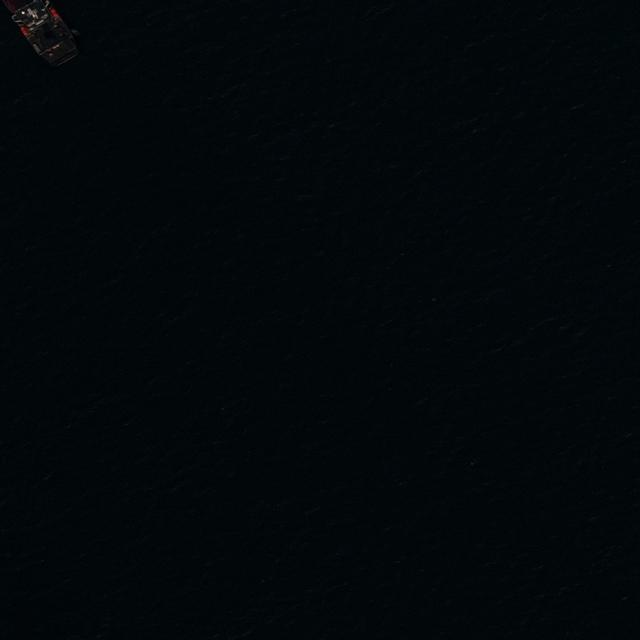Oil Tanker: (1, 6, 83, 65)
